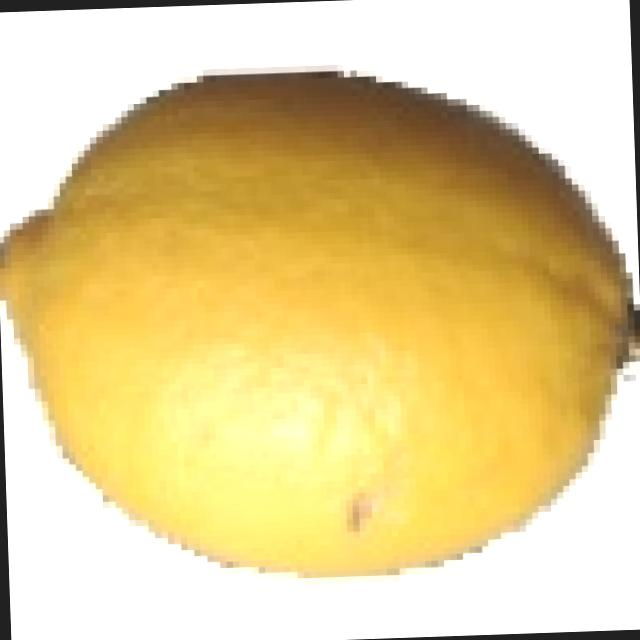lemon: (0, 35, 640, 592)
